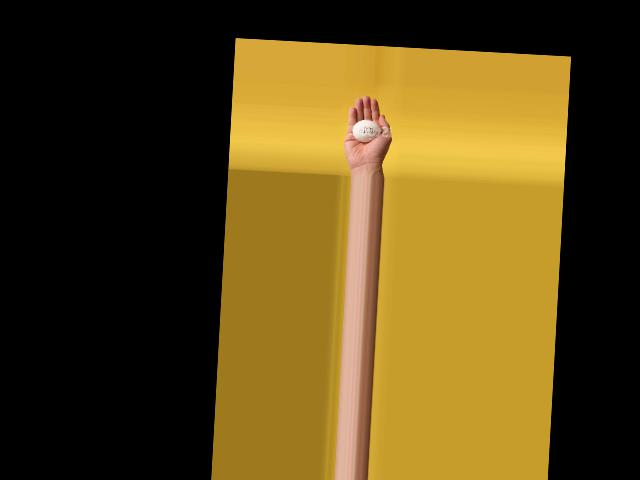egg: (351, 119, 381, 142)
